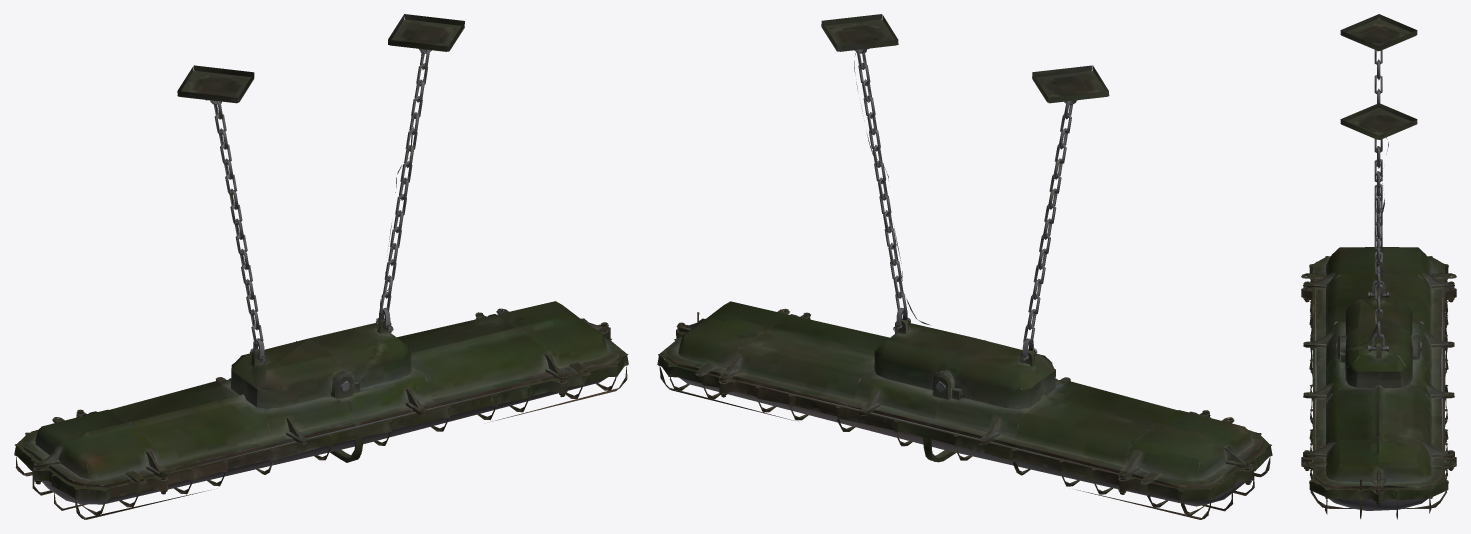
File: caged_ceiling_light.glb
3 views of the same model, side by side, from view 1: azimuth 30°, elevation 25°; view 2: azimuth 150°, elevation 25°; view 3: azimuth 270°, elevation 25° (orthographic). The views are drawn at different scales.
Parts seen in each view (by area): view 1: caged_ceiling_light; view 2: caged_ceiling_light; view 3: caged_ceiling_light.
Part boxes in pixels (x1,y1,x2,y2): caged_ceiling_light: (14, 14, 628, 519); caged_ceiling_light: (657, 14, 1272, 519); caged_ceiling_light: (1301, 14, 1456, 519).
Bounding box in the file's own units: 1.17 × 0.7501 × 0.315.
1 material, 1 textured.
